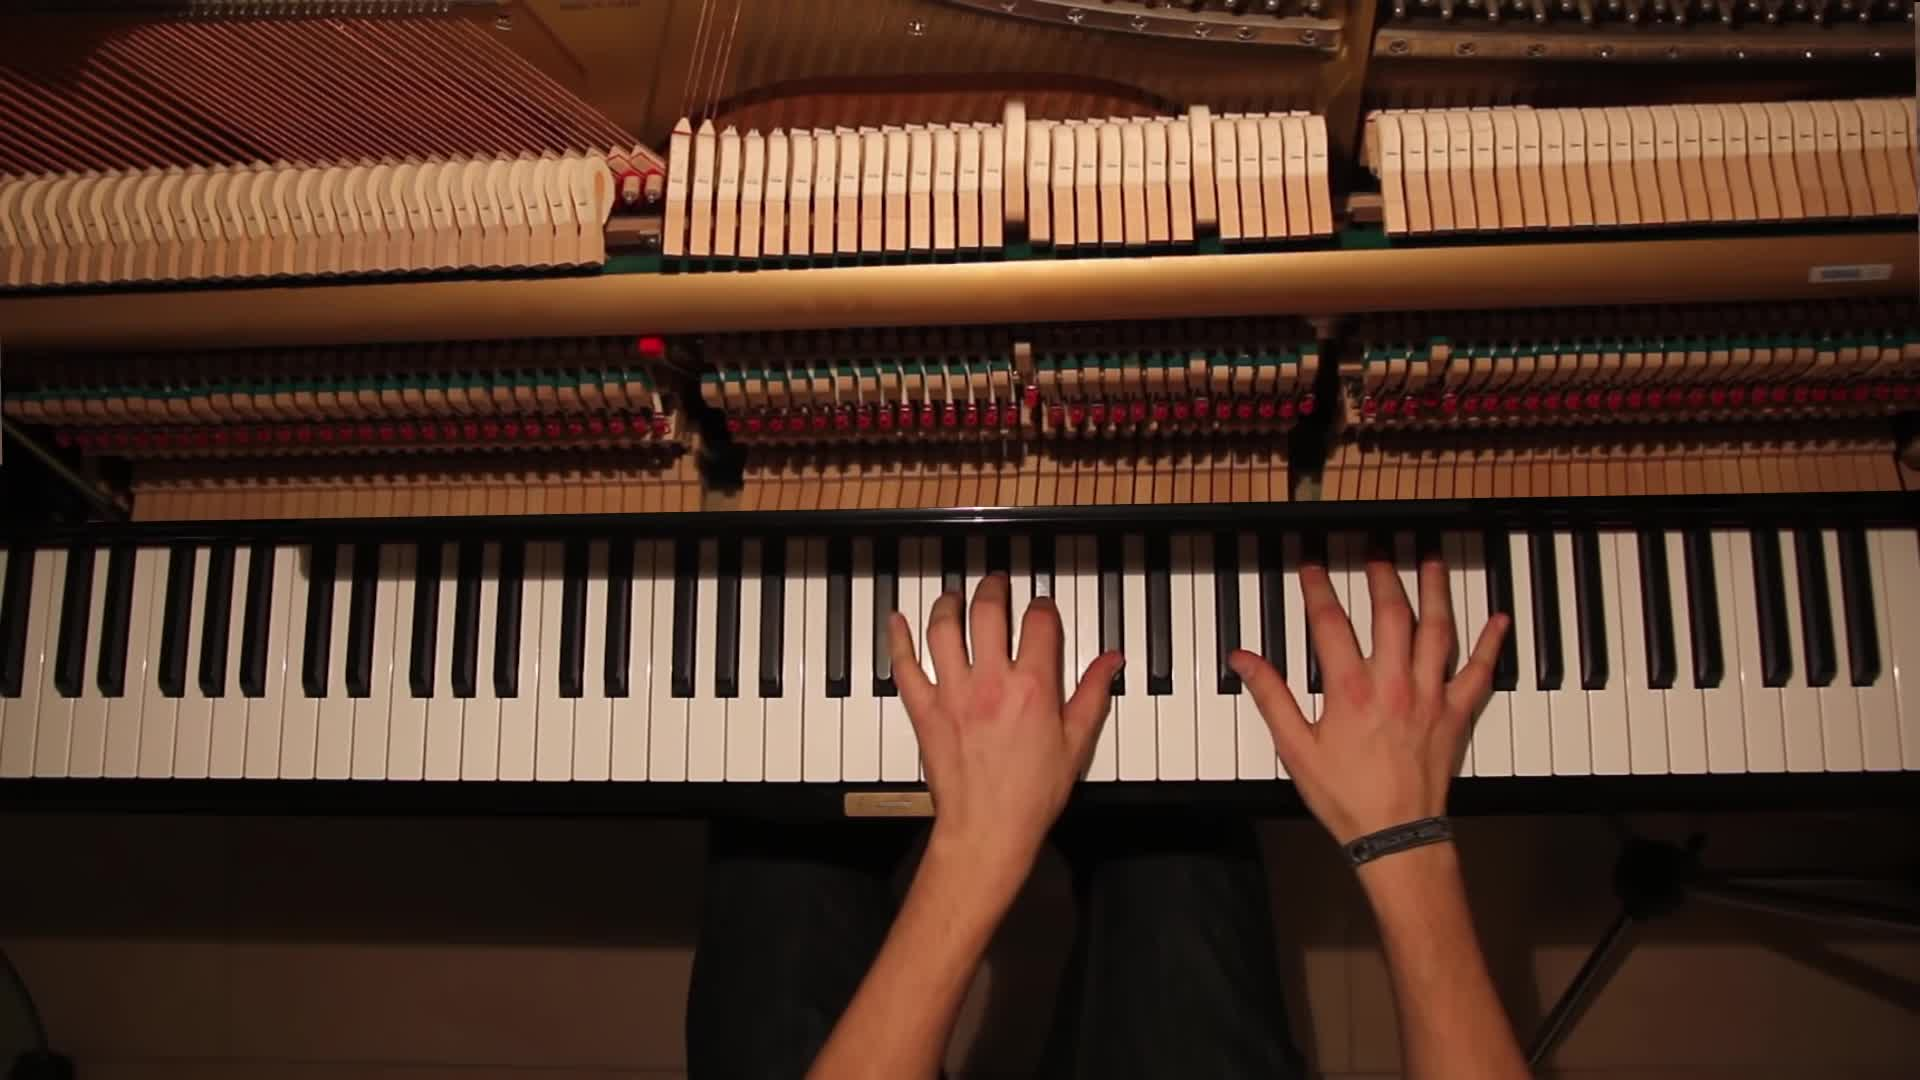left: (890, 567, 1127, 827)
right: (1230, 537, 1506, 824)
